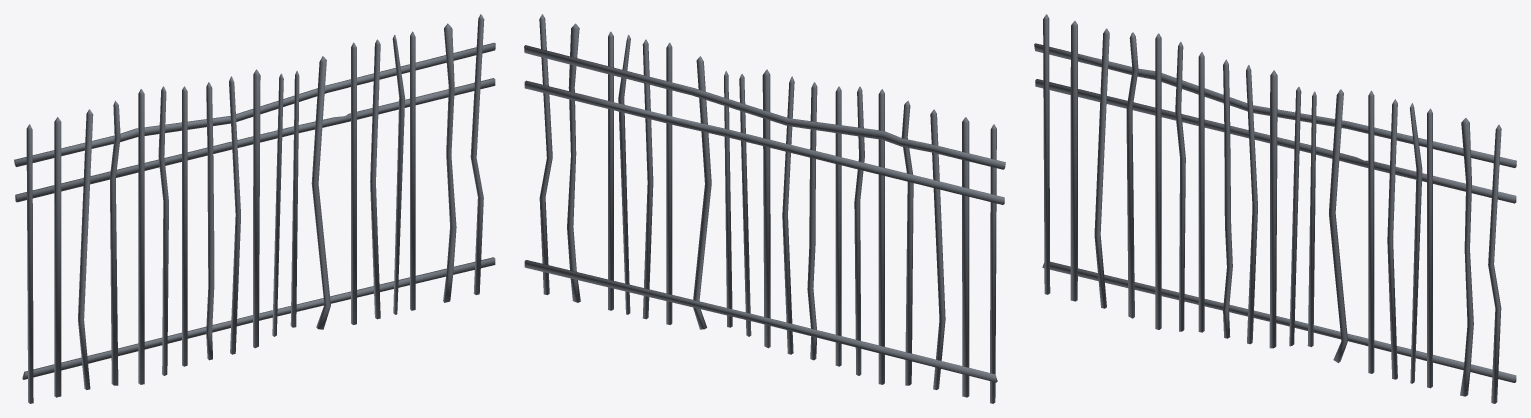
File: FenceMetal.fbx
3 renders of one model, left to right at view 1: azimuth 30°, elevation 25°; view 2: azimuth 150°, elevation 25°; view 3: azimuth 330°, elevation 25°, orthographic.
Visible parts, largest first — view 1: Fence Metal; view 2: Fence Metal; view 3: Fence Metal.
Part boxes in pixels (left/top/right/bottom): Fence Metal: left=14, top=14, right=495, bottom=403; Fence Metal: left=524, top=14, right=1005, bottom=403; Fence Metal: left=1034, top=14, right=1516, bottom=403.
Size of the model in its own units: 502 by 294 by 8.17.
